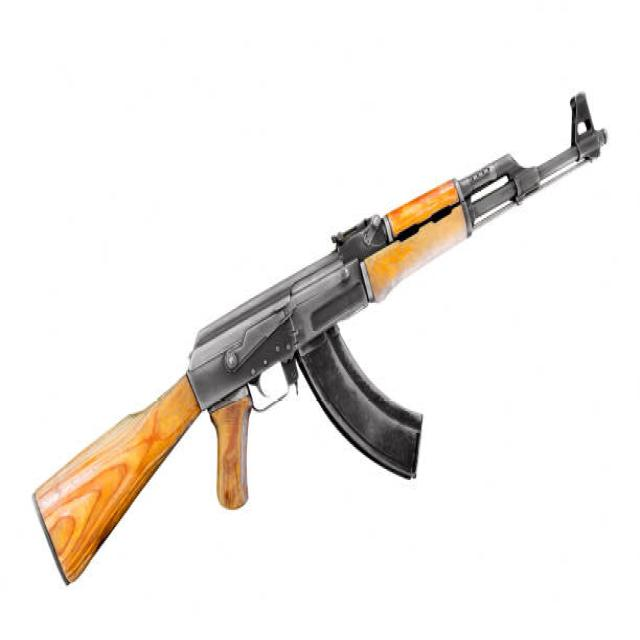rifle: (25, 88, 608, 596)
